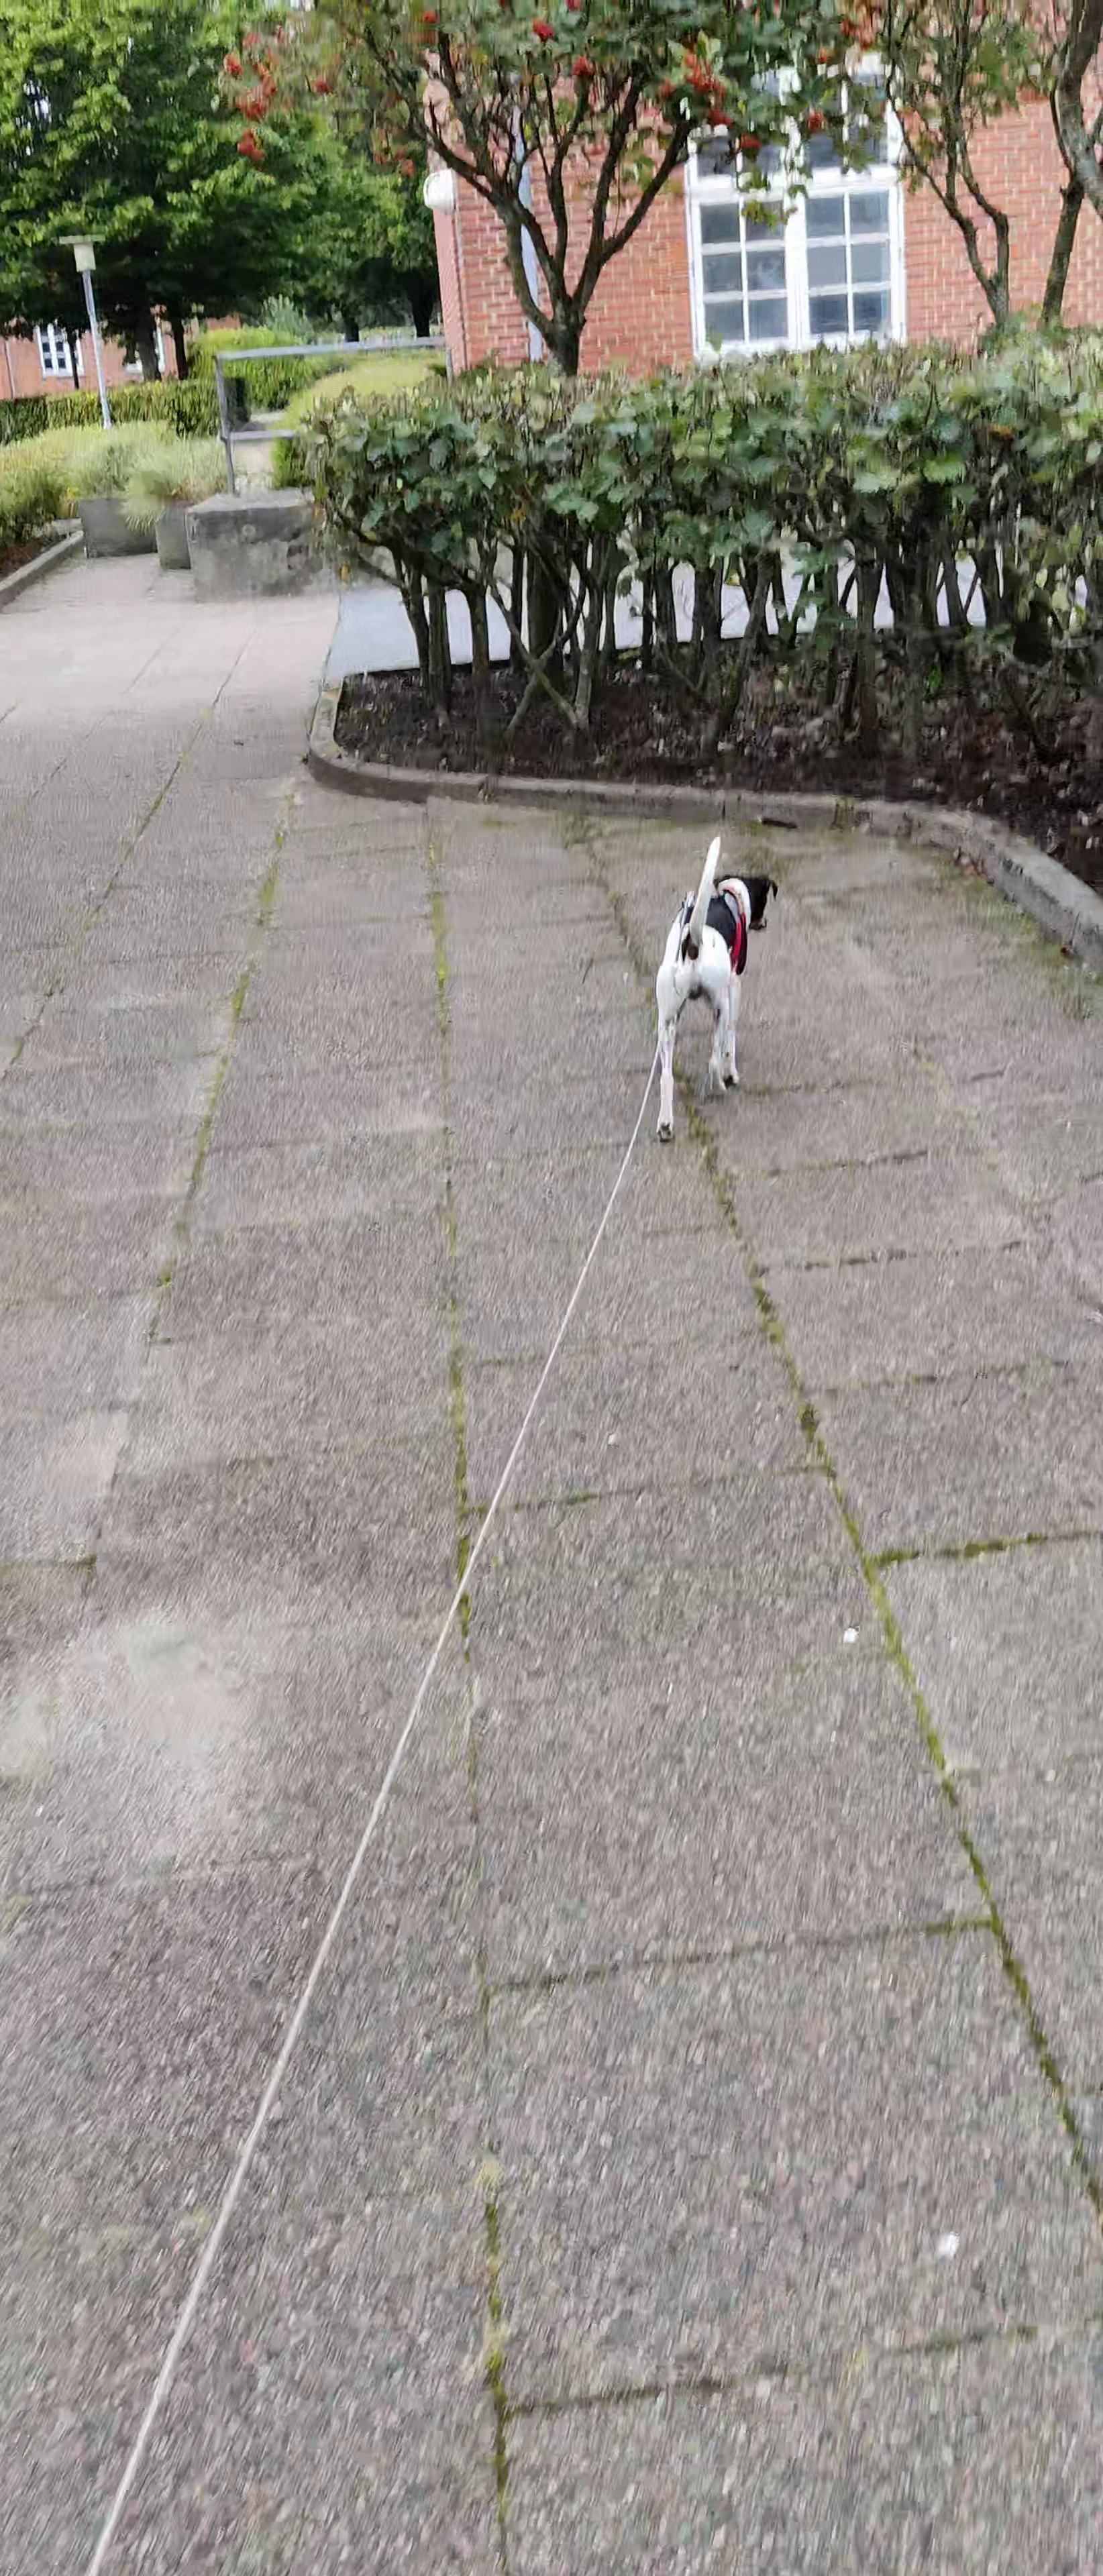Dog: (644, 831, 781, 1153)
